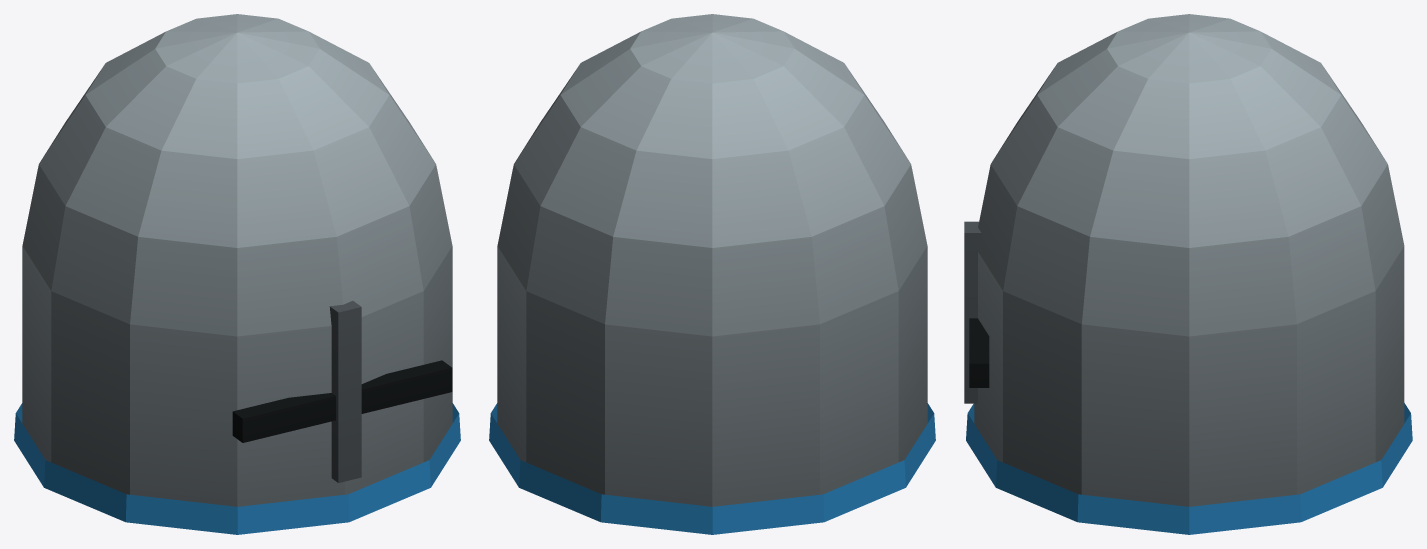
The model's file is guard_helm_t2.glb.
The picture shows the model from 3 angles, left to right: view 1: azimuth 30°, elevation 25°; view 2: azimuth 150°, elevation 25°; view 3: azimuth 270°, elevation 25°; orthographic projection.
Visible parts, largest first — view 1: guard_helm_t2__head; view 2: guard_helm_t2__head; view 3: guard_helm_t2__head.
Part boxes in pixels (x1,y1,x2,y2): guard_helm_t2__head: (14,14,460,534); guard_helm_t2__head: (489,14,935,534); guard_helm_t2__head: (964,14,1412,534).
Bounding box in the file's own units: 1.33 × 1.34 × 1.33.
Materials: 1 (1 with a texture image).
